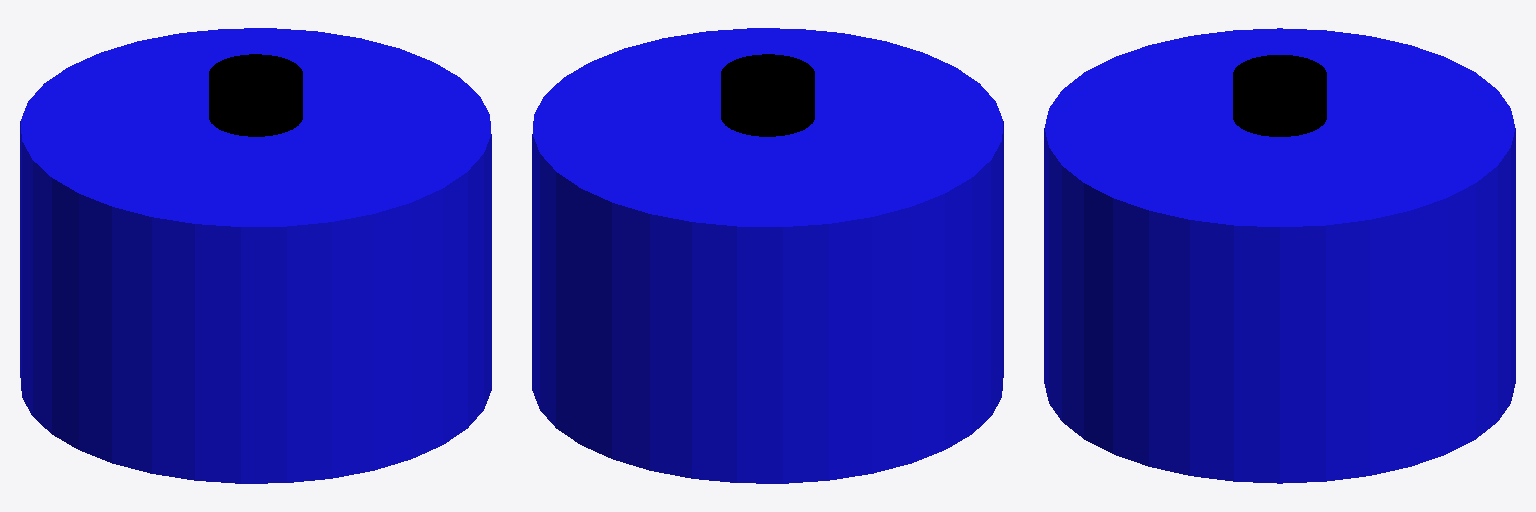
robot.urdf — fishbot:
<?xml version="1.0"?>
<robot name="fishbot">
    
    <!-- base link -->
    <link name="base_link">
        <visual>
            <origin xyz="0 0 0.0" rpy="0 0 0"/>
            <geometry>
                <cylinder length="0.12" radius="0.10"/>
            </geometry>
            <material name="blue">
                <color rgba="0.1 0.1 1.0 0.5"/>
            </material>
        </visual>
    </link>
    
    <!-- laser link -->
    <link name="laser_link">
        <visual>
            <origin xyz="0 0 0" rpy="0 0 0"/>
            <geometry>
                <cylinder length="0.02" radius="0.02"/>
            </geometry>
            <material name="black">
                <color rgba="0.0 0.0 0.0 0.8" /> 
        </material>
        </visual>
    </link>

    <!-- imu link -->
    <link name="imu_link">
        <visual>
            <origin xyz="0 0 0" rpy="0 0 0"/>
            <geometry>
                <box size="0.02 0.02 0.02"/>
            </geometry>
        </visual>
  </link>
    
    <!-- laser joint -->
    <joint name="laser_joint" type="fixed">
        <parent link="base_link" />
        <child link="laser_link" />
        <origin xyz="0 0 0.075" />
    </joint>

    <!-- imu joint -->
    <joint name="imu_joint" type="fixed">
        <parent link="base_link" />
        <child link="imu_link" />
        <origin xyz="0 0 0.02" />
    </joint>

</robot>

--- What the picture shows (computed from the rendered views, not written in the file) ---
3 views of the same robot in one strip: view 1: azimuth 30°, elevation 25°; view 2: azimuth 150°, elevation 25°; view 3: azimuth 270°, elevation 25° (orthographic).
Robot: fishbot — 3 links, 2 joints (2 fixed); root link base_link; default pose: every joint at zero.
Visible links, largest first — view 1: base_link, laser_link; view 2: base_link, laser_link; view 3: base_link, laser_link.
Link boxes in pixels (x1,y1,x2,y2): base_link: (20, 28, 491, 483); laser_link: (209, 54, 302, 136); base_link: (532, 28, 1003, 483); laser_link: (721, 54, 814, 136); base_link: (1044, 28, 1515, 483); laser_link: (1233, 55, 1326, 136).
Bounding box of the posed robot: 0.2 × 0.2 × 0.145 m (x, y, z).
Geometry: primitives only (box / cylinder / sphere), no mesh files.